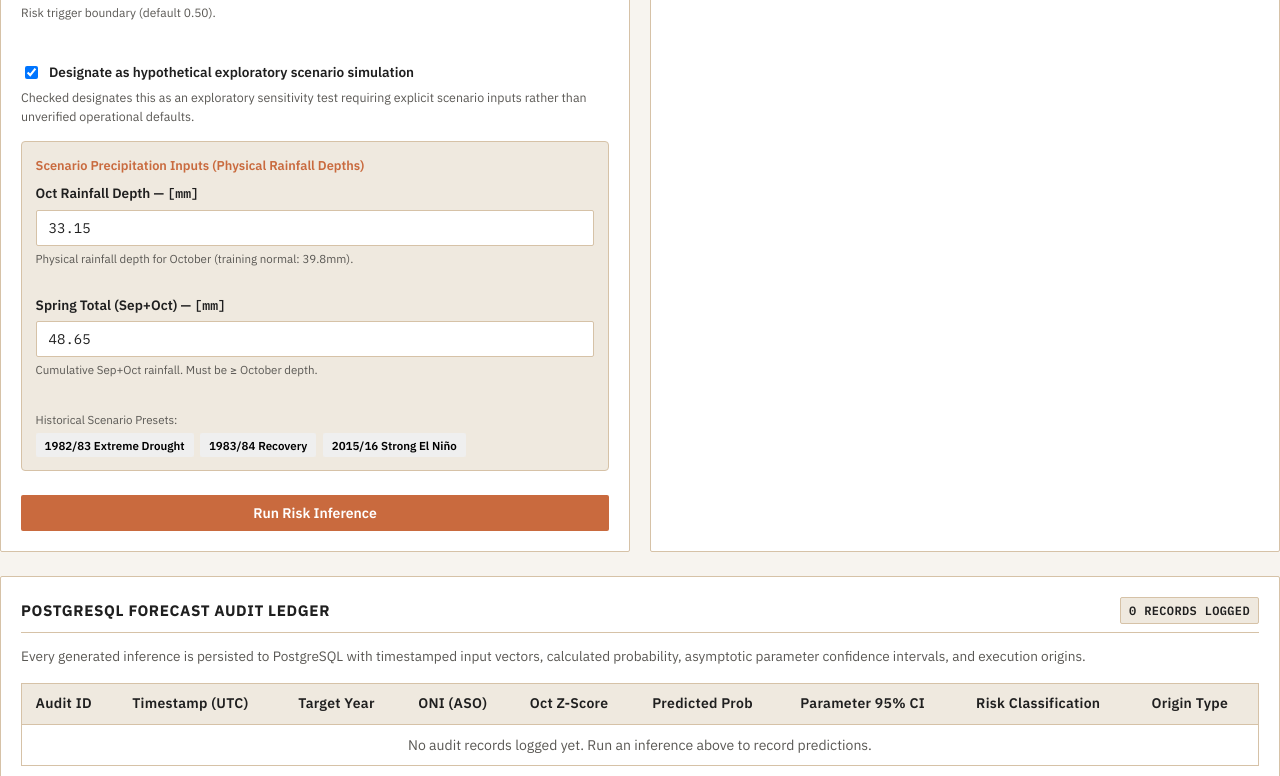
ForecastsView Scientific Integrity & Factor Audit › loads preset parameters when historical preset button is clicked
(page scrolled)
Click the button "1982/83 Extreme Drought".
click(115, 445)  # box [36, 433, 194, 457]
(page scrolled)
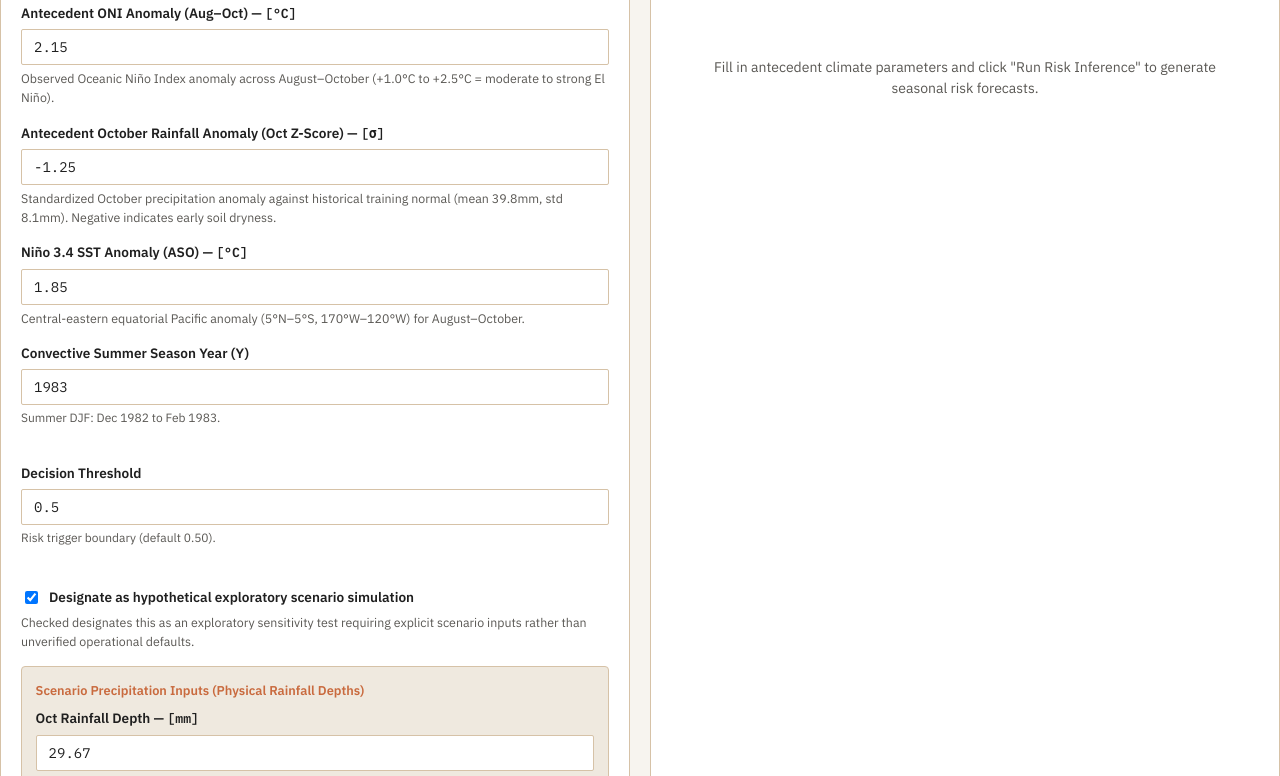
Check: the number field labelled "Antecedent ONI Anomaly (Aug–Oct) — [°C]" holds "2.15", box [21, 30, 609, 66]
Check: the number field labelled "Antecedent October Rainfall Anomaly (Oct Z-Score) — [σ]" holds "-1.25", box [21, 149, 609, 185]
Check: the number field labelled "Niño 3.4 SST Anomaly (ASO) — [°C]" holds "1.85", box [21, 269, 609, 305]
